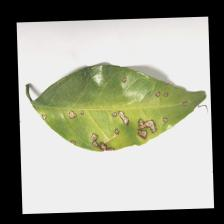canker: (90, 92, 165, 158)
